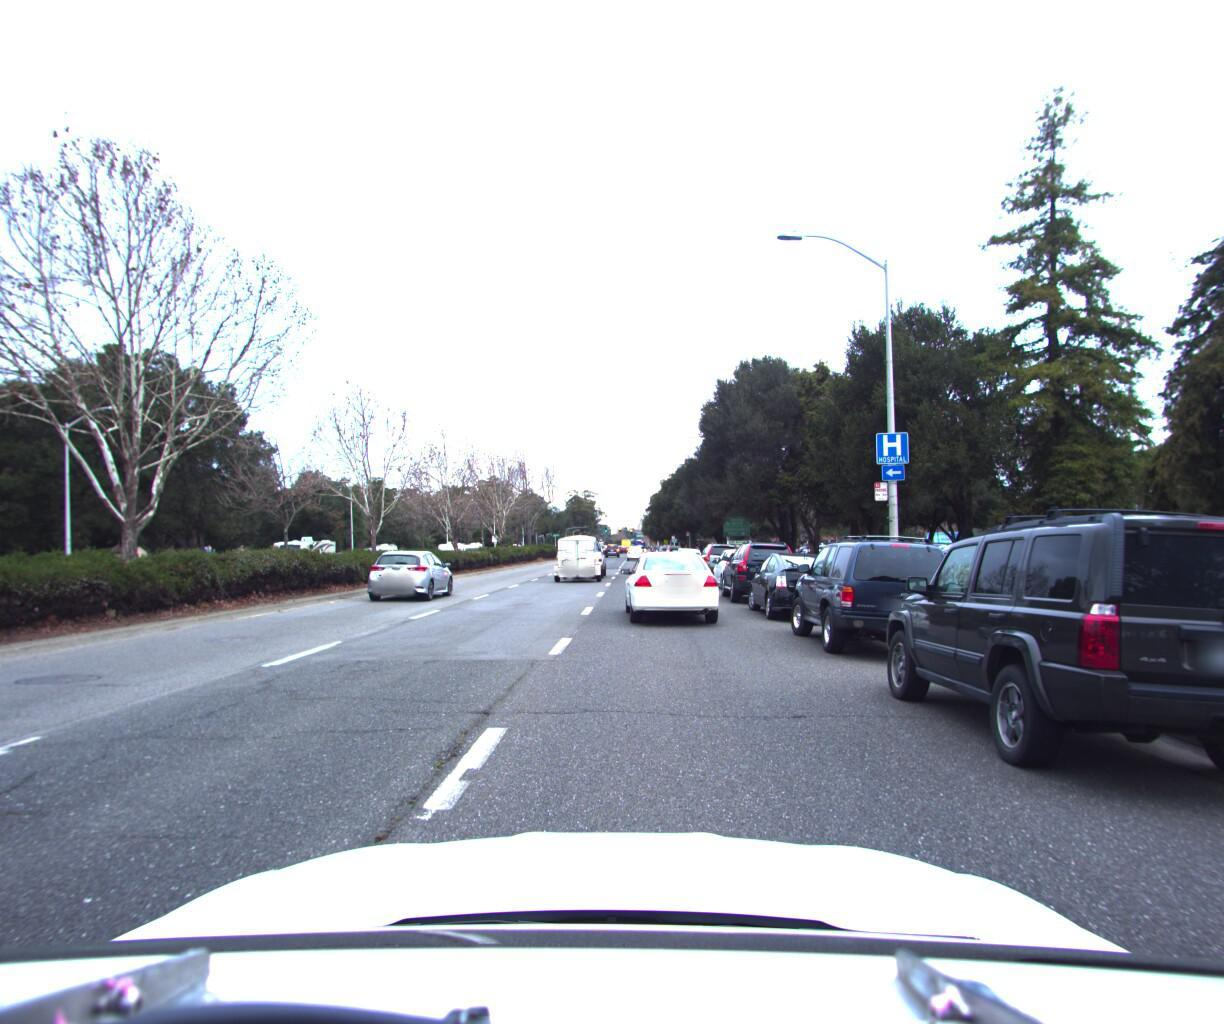car: (865, 484, 1224, 824), (781, 524, 972, 657), (623, 541, 724, 627), (743, 543, 853, 621), (719, 532, 804, 605), (366, 543, 458, 600), (549, 527, 609, 579), (708, 541, 764, 584), (691, 533, 744, 579), (672, 540, 703, 564), (626, 539, 644, 555)
other_vehicle: (269, 531, 340, 578)
